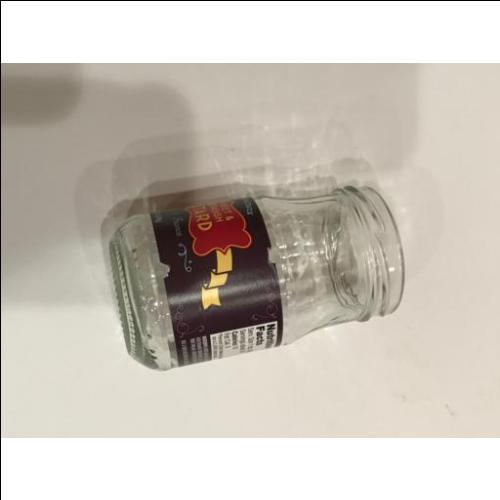glass: (116, 187, 403, 366)
